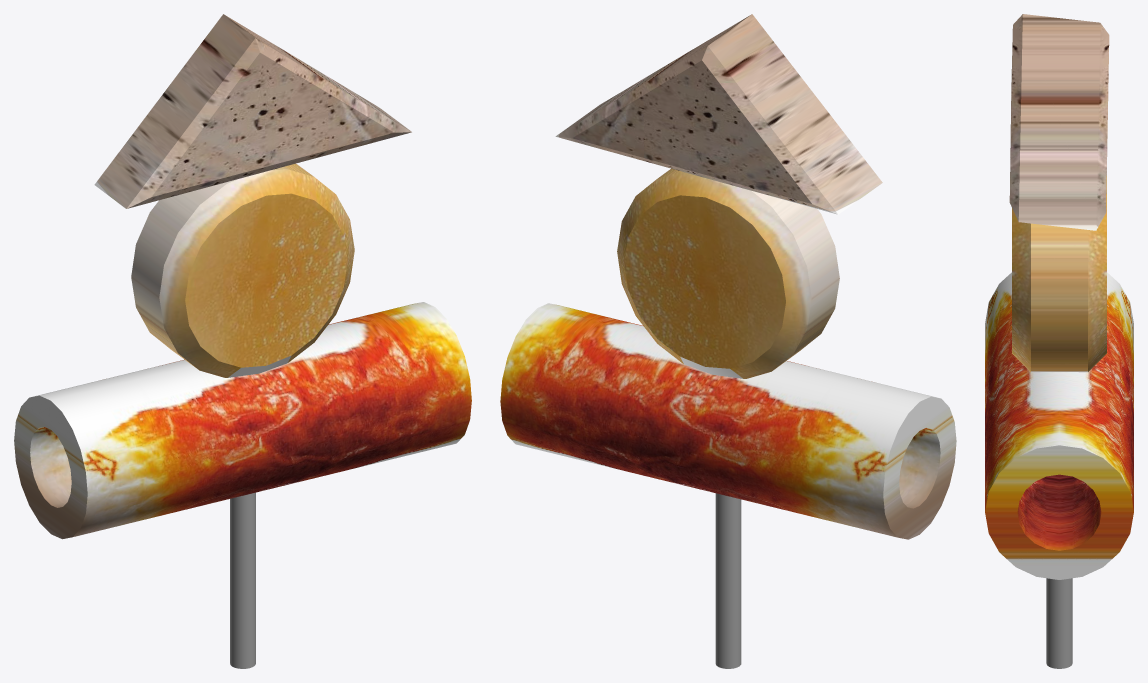
The model's file is odenn.fbx.
The picture shows the model from 3 angles, left to right: view 1: azimuth 30°, elevation 25°; view 2: azimuth 150°, elevation 25°; view 3: azimuth 270°, elevation 25°; orthographic projection.
Visible parts, largest first — view 1: polySurface1, pCylinder1, pCylinder2, pCylinder5; view 2: polySurface1, pCylinder1, pCylinder2, pCylinder5; view 3: polySurface1, pCylinder2, pCylinder1, pCylinder5.
Part boxes in pixels (x1,y1,x2,y2): polySurface1: (14,302,471,539); pCylinder1: (131,163,354,377); pCylinder2: (94,14,411,208); pCylinder5: (230,492,255,668); polySurface1: (500,303,956,539); pCylinder1: (617,168,839,378); pCylinder2: (555,14,882,214); pCylinder5: (715,493,741,668); polySurface1: (985,272,1133,579); pCylinder2: (1009,14,1109,230); pCylinder1: (1012,176,1106,372); pCylinder5: (1046,578,1072,668).
Bounding box in the file's own units: 3.93 × 6.26 × 1.31.
Materials: 2 (1 with a texture image).
